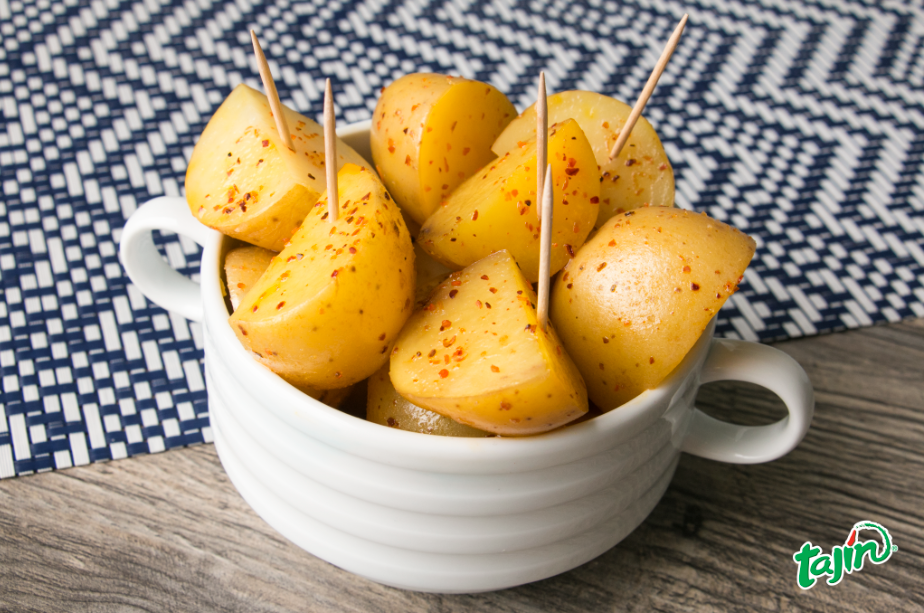boiled potatoes: (216, 164, 414, 390), (561, 193, 756, 401), (398, 260, 580, 439), (411, 123, 608, 276), (181, 83, 356, 252), (369, 78, 518, 218)
